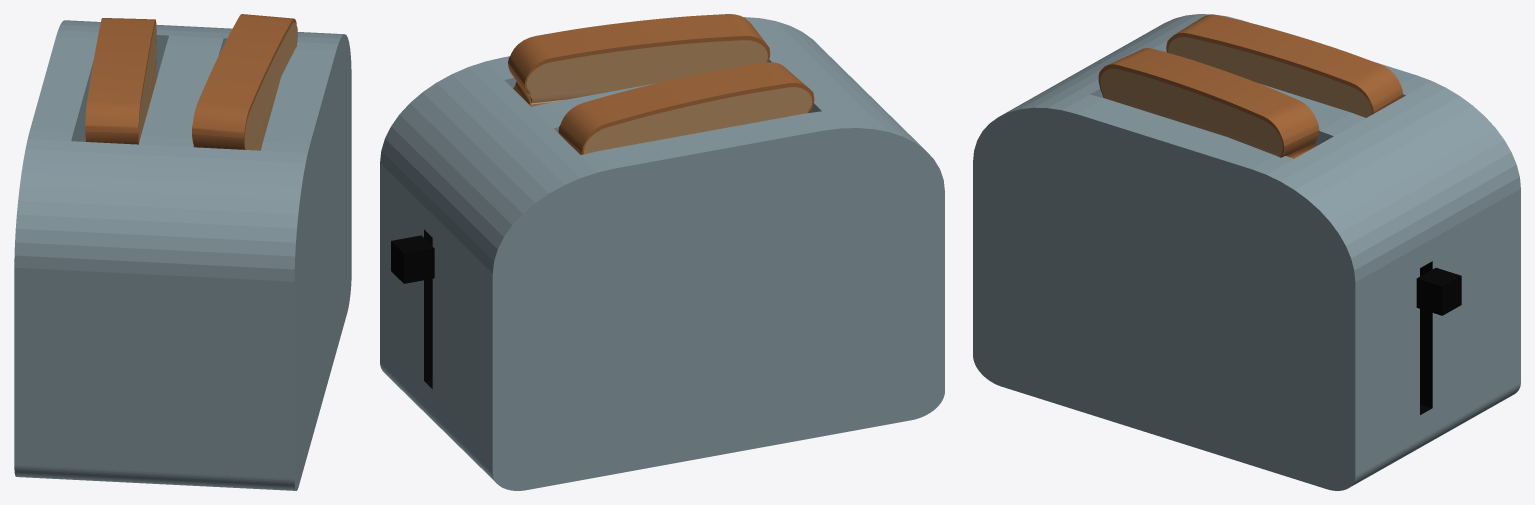
Rendered from low_poly_toaster_animated.glb.
3 renders of one model, left to right at view 1: azimuth 30°, elevation 25°; view 2: azimuth 150°, elevation 25°; view 3: azimuth 270°, elevation 25°, orthographic. The views are drawn at different scales.
Parts seen in each view (by area): view 1: Toaster_0, Toast front_2, Toast back_1; view 2: Toaster_0, Toast front_2, Toast back_1; view 3: Toaster_0, Toast front_2, Toast back_1.
Boxes of the visible parts, bbox=[...] form: Toaster_0: bbox=[14, 20, 351, 490]; Toast front_2: bbox=[192, 14, 297, 150]; Toast back_1: bbox=[85, 18, 156, 144]; Toaster_0: bbox=[380, 17, 944, 490]; Toast front_2: bbox=[508, 14, 770, 106]; Toast back_1: bbox=[558, 62, 814, 154]; Toaster_0: bbox=[973, 14, 1520, 490]; Toast front_2: bbox=[1098, 48, 1319, 158]; Toast back_1: bbox=[1166, 14, 1402, 117].
Bounding box in the file's own units: 2.13 × 1.58 × 2.3.
